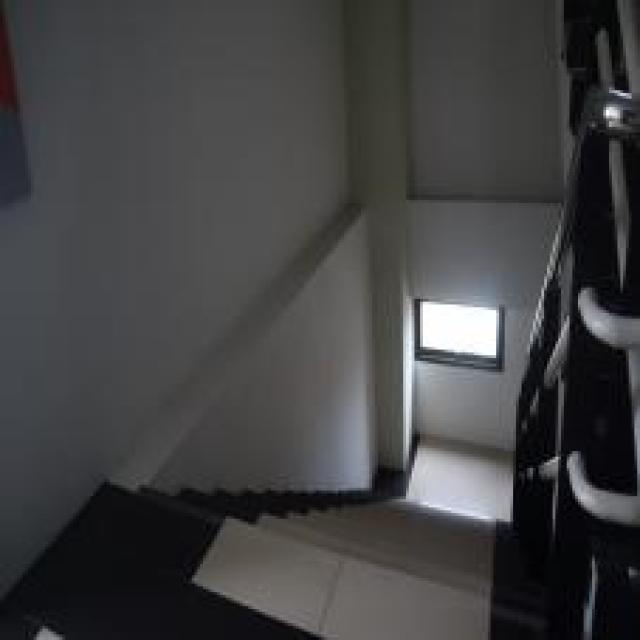downstair: (218, 503, 447, 616)
